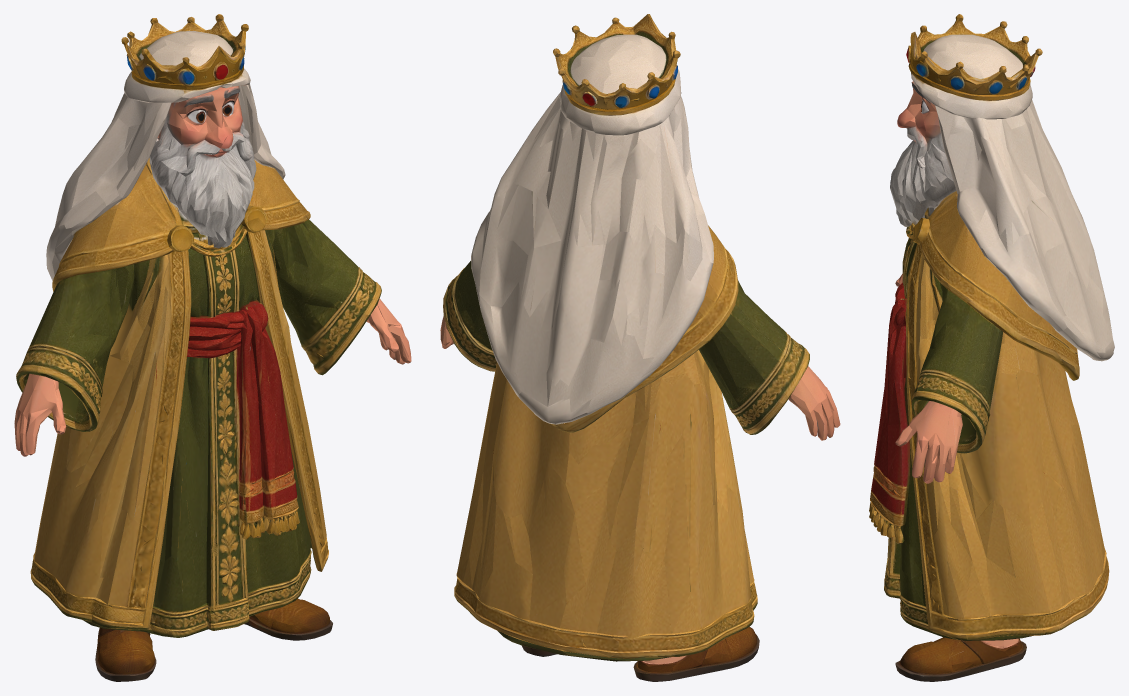
The picture shows the model from 3 angles, left to right: view 1: azimuth 30°, elevation 25°; view 2: azimuth 150°, elevation 25°; view 3: azimuth 270°, elevation 25°; orthographic projection. The views are drawn at different scales.
Parts seen in each view (by area): view 1: Mesh_0; view 2: Mesh_0; view 3: Mesh_0.
Boxes of the visible parts, left/top/right/bottom form: Mesh_0: left=14, top=14, right=411, bottom=681; Mesh_0: left=440, top=14, right=840, bottom=681; Mesh_0: left=869, top=14, right=1114, bottom=681.
Size of the model in its own units: 1.25 by 1.9 by 0.7085.
1 material, 1 textured.
